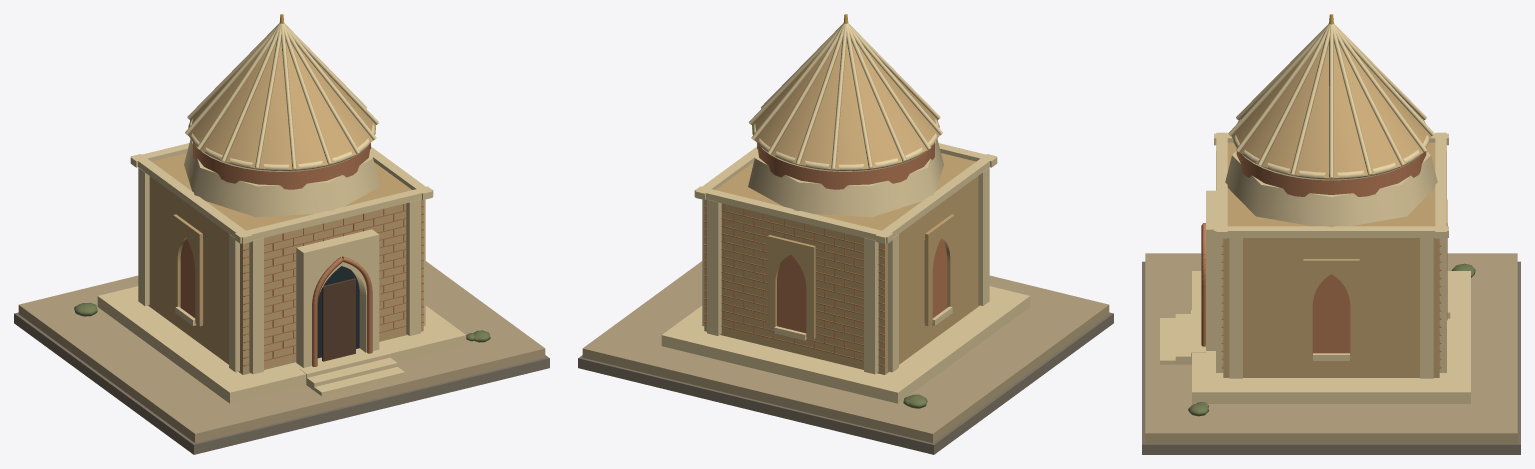
The model's file is babadzha.glb.
3 views of the same model, side by side, from view 1: azimuth 30°, elevation 25°; view 2: azimuth 150°, elevation 25°; view 3: azimuth 270°, elevation 25° (orthographic). The views are drawn at different scales.
Parts seen in each view (by area): view 1: Carved pale limestone, Warm limestone, Steppe earth, Terracotta, Foundation edging, Cedar doors, Doorway shadows; view 2: Warm limestone, Carved pale limestone, Steppe earth, Terracotta, Foundation edging; view 3: Carved pale limestone, Warm limestone, Steppe earth, Terracotta, Foundation edging, Sparse steppe vegetation.
Boxes of the visible parts, x1,y1,x2,y2 form: Carved pale limestone: (97,23,466,403); Warm limestone: (148,41,423,374); Steppe earth: (18,261,545,442); Terracotta: (180,143,423,366); Foundation edging: (14,312,549,454); Cedar doors: (322,278,355,361); Doorway shadows: (317,266,359,358); Warm limestone: (704,41,979,374); Carved pale limestone: (661,23,1030,403); Steppe earth: (582,261,1109,442); Terracotta: (704,143,947,366); Foundation edging: (578,312,1113,454); Carved pale limestone: (1160,23,1470,403); Warm limestone: (1223,43,1447,377); Steppe earth: (1145,253,1517,442); Terracotta: (1201,151,1441,368); Foundation edging: (1142,261,1520,454); Sparse steppe vegetation: (1188,263,1475,416).
Bounding box in the file's own units: 6.4 × 5.69 × 5.6.
